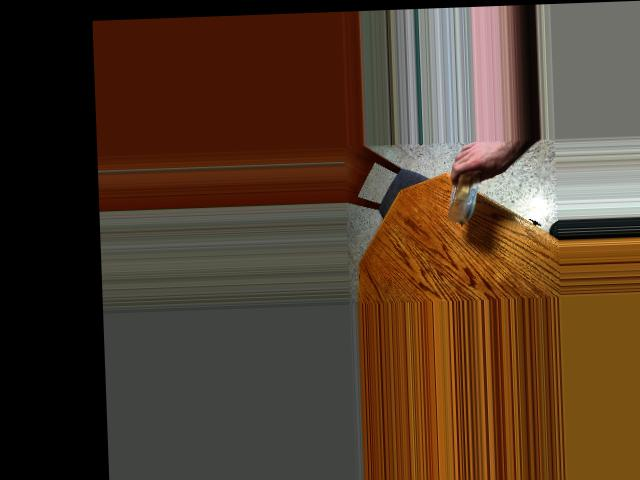cheese: (445, 170, 490, 218)
